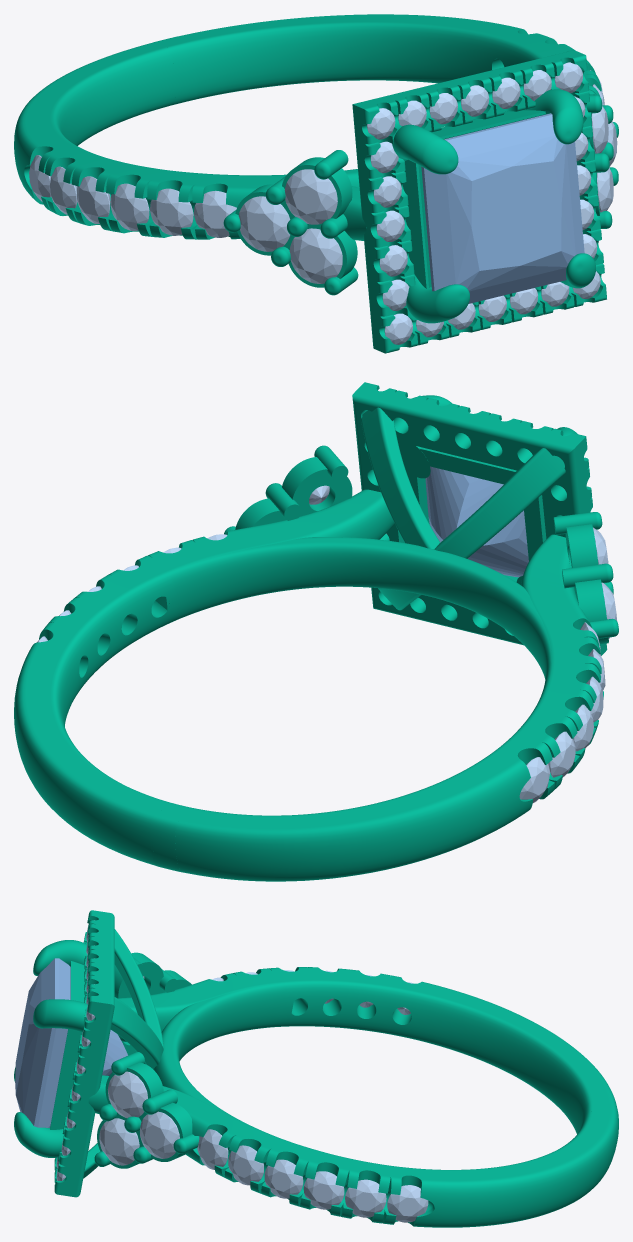
3 renders of one model, top to bottom at view 1: azimuth 30°, elevation 25°; view 2: azimuth 150°, elevation 25°; view 3: azimuth 270°, elevation 25°, orthographic. The views are drawn at different scales.
Parts seen in each view (by area): view 1: JTC 0082(base).3dm, Diamond_Princess, Diamond_Round (×21), GemOnCrv (×6); view 2: JTC 0082(base).3dm, Diamond_Princess, GemOnCrv (×2); view 3: JTC 0082(base).3dm, GemOnCrv (×6), Diamond_Princess, Diamond_Round (×3).
Part boxes in pixels (<box>): JTC 0082(base).3dm: <box>14,14,618,353</box>; Diamond_Princess: <box>421,113,584,303</box>; Diamond_Round (×21): <box>238,62,613,344</box>; GemOnCrv (×6): <box>29,155,236,237</box>; JTC 0082(base).3dm: <box>14,382,618,881</box>; Diamond_Princess: <box>425,466,528,577</box>; GemOnCrv (×2): <box>519,731,575,802</box>; JTC 0082(base).3dm: <box>14,910,618,1227</box>; GemOnCrv (×6): <box>197,1129,428,1222</box>; Diamond_Princess: <box>15,958,127,1127</box>; Diamond_Round (×3): <box>99,1071,179,1165</box>.
Bounding box in the file's own units: 2.45 × 1.08 × 2.97.
